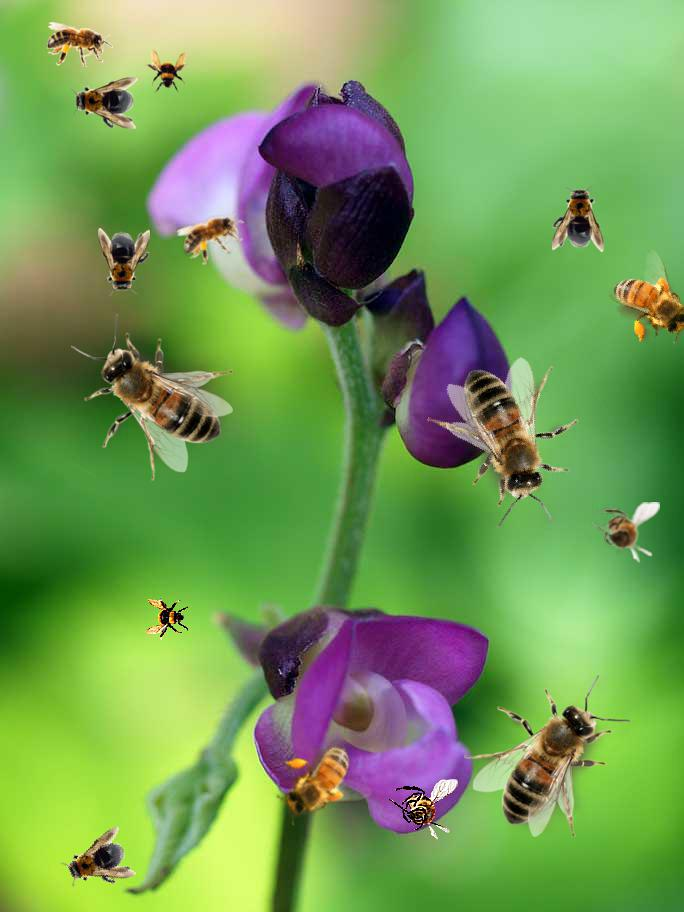Bee: (398, 324, 623, 552), (71, 314, 233, 481), (464, 675, 631, 837), (266, 734, 376, 829), (599, 245, 684, 360), (55, 825, 139, 901), (174, 199, 254, 272), (388, 779, 458, 840), (590, 502, 660, 563), (552, 184, 604, 252), (98, 228, 150, 296), (70, 77, 138, 129), (47, 22, 113, 67), (144, 49, 188, 93), (145, 597, 189, 641)
